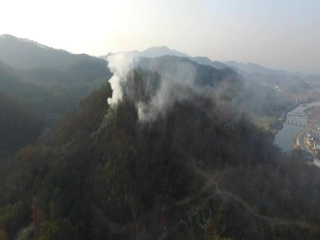smoke: (89, 47, 262, 134)
